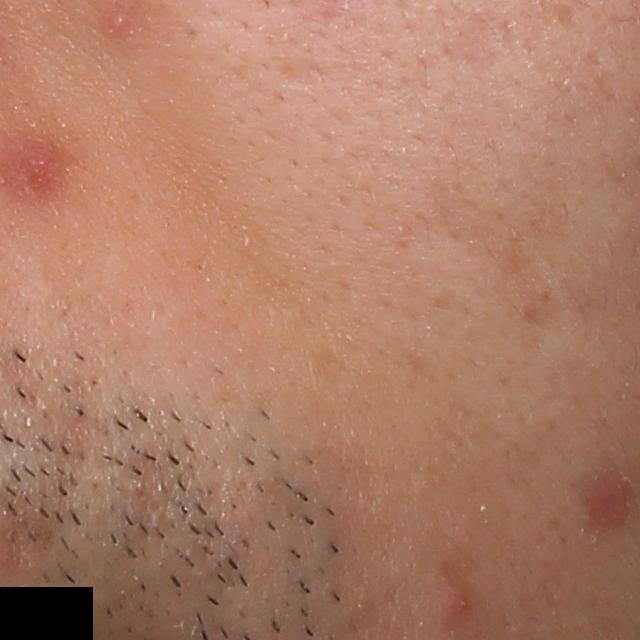atrophic_scar: (550, 4, 585, 40)
papule: (591, 481, 632, 531)
